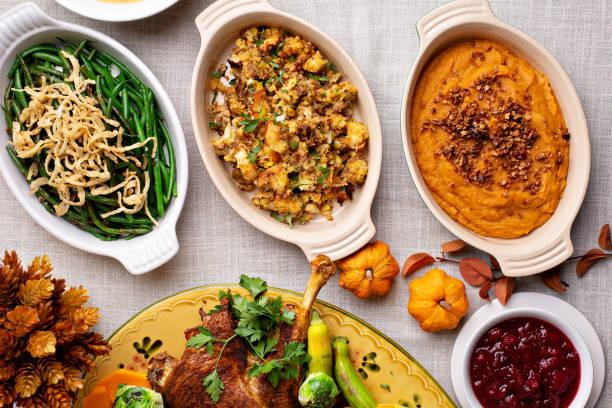Braised Crucian Carp: (398, 2, 591, 275), (2, 3, 190, 275), (189, 1, 381, 266), (82, 283, 456, 405)
